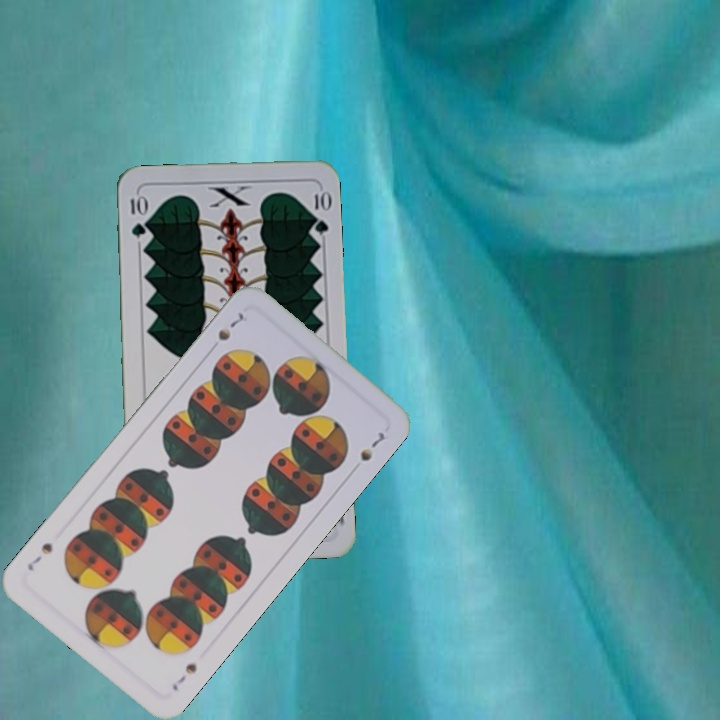G10: (126, 191, 148, 241)
S7: (214, 308, 246, 344), (168, 659, 200, 694)
